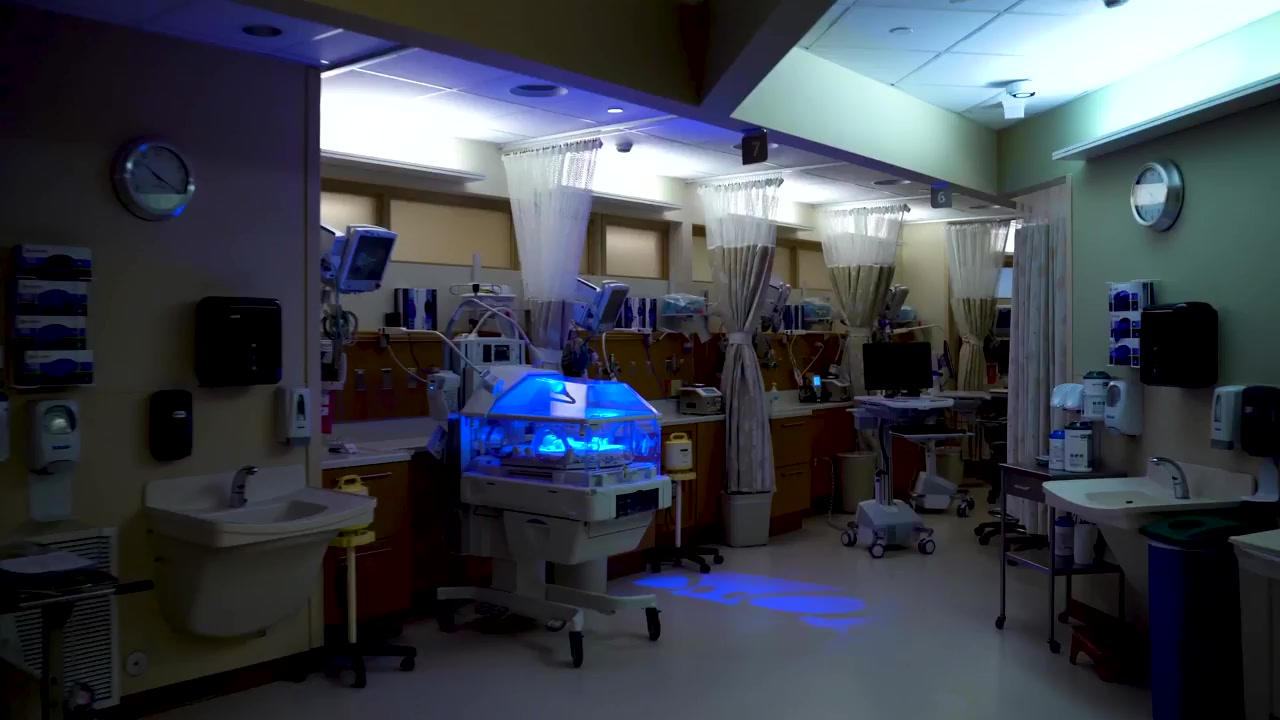bedside_monitor: (339, 222, 400, 292), (584, 280, 630, 332), (884, 286, 910, 319), (992, 305, 1011, 337)
computer: (863, 341, 934, 392)
countertop: (660, 413, 726, 421)
curtain: (695, 176, 784, 493), (501, 138, 603, 367), (1007, 180, 1067, 534), (818, 204, 901, 319), (943, 218, 993, 387)
dispenser: (15, 240, 101, 392), (194, 296, 282, 387), (1138, 301, 1217, 387), (27, 401, 82, 523), (1109, 281, 1149, 365), (149, 389, 193, 461), (1244, 386, 1279, 458), (1105, 378, 1145, 437), (277, 382, 312, 449), (1209, 381, 1241, 451), (1081, 371, 1112, 418)
drawer: (321, 447, 416, 630), (769, 407, 815, 516)
electrosurgical_unit: (678, 383, 724, 415), (812, 375, 854, 403)
faucet: (1151, 451, 1200, 500), (228, 464, 261, 506)
handle: (337, 547, 394, 560), (336, 472, 392, 482), (780, 469, 806, 477), (781, 420, 807, 427)
incubator: (435, 370, 664, 646)
sink: (144, 487, 380, 549), (1042, 474, 1227, 529)
utility_cart: (995, 462, 1127, 653)
waste_bin: (1137, 515, 1244, 720), (1229, 531, 1280, 720), (721, 484, 773, 548), (836, 450, 878, 513), (929, 445, 964, 494)
